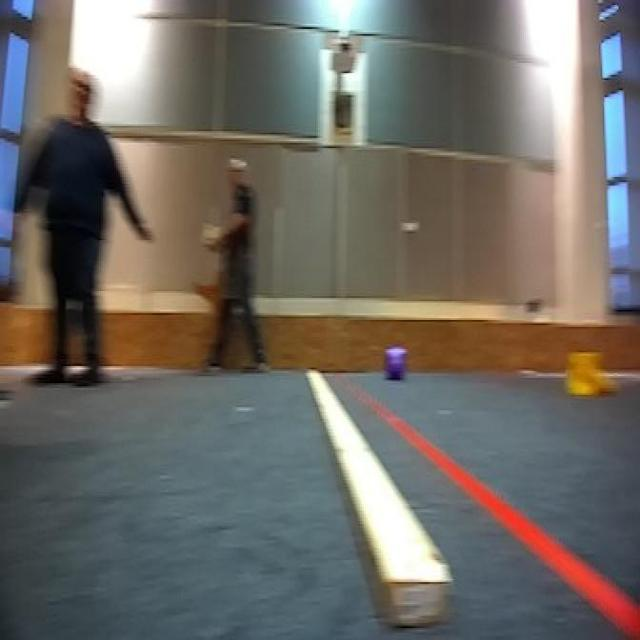frc_cone: (562, 345, 616, 395)
frc_cube: (383, 346, 408, 381)
